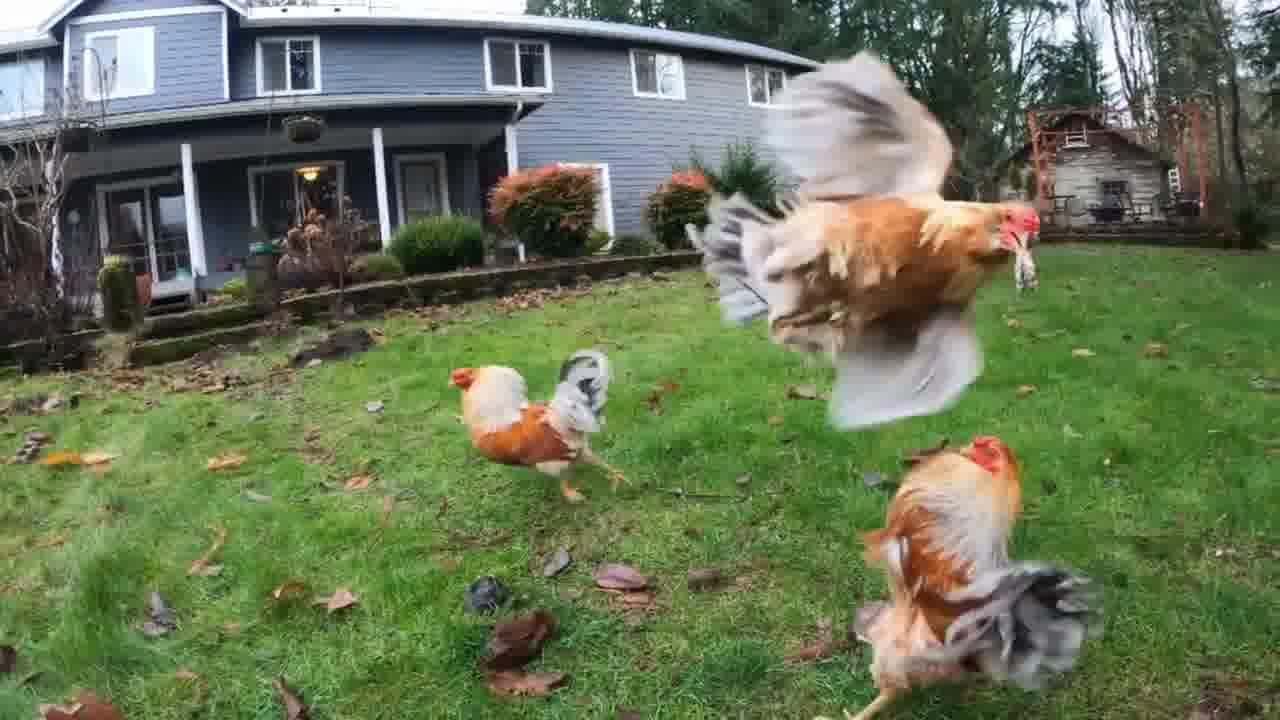Normal: (692, 54, 1060, 416), (816, 388, 1128, 720), (432, 334, 672, 498)
